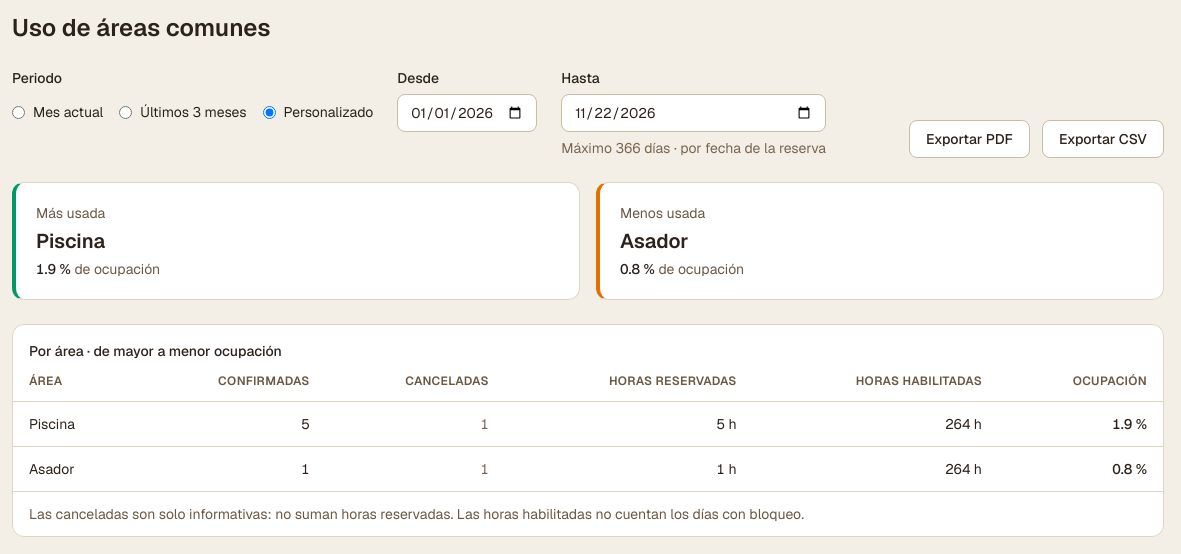
Test: H33. Reporte de uso de áreas comunes › AC2: en Personalizado se editan las fechas, con un máximo de 366 días
Step 1. Type "2025-01-01" into the date field labelled "Desde" → (467, 113), box [397,94,537,132]
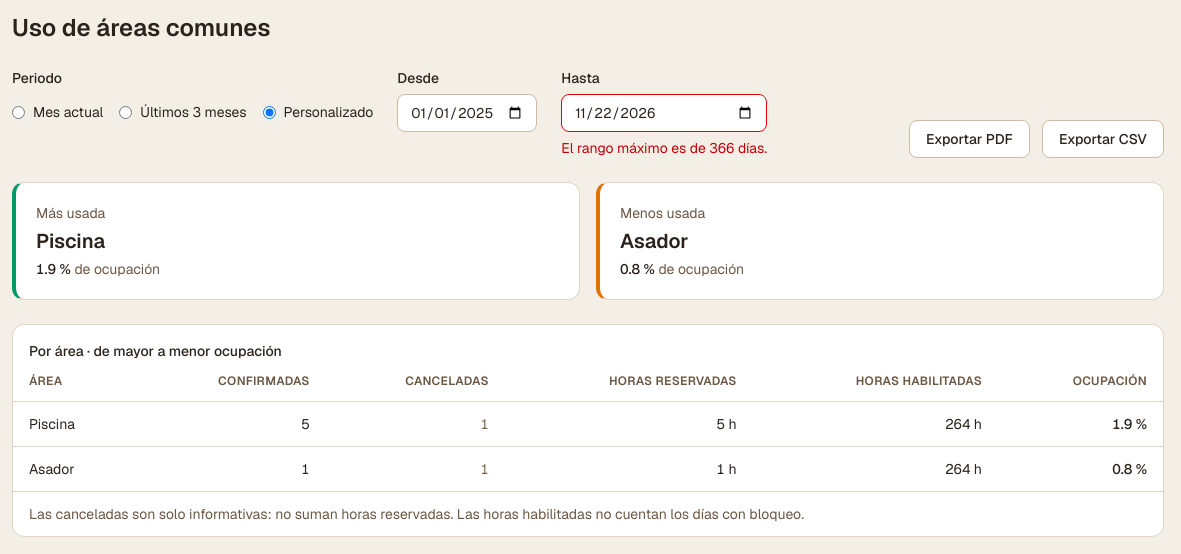
Result: the message reads "El rango máximo es de 366 días." at [561,139,767,157]
